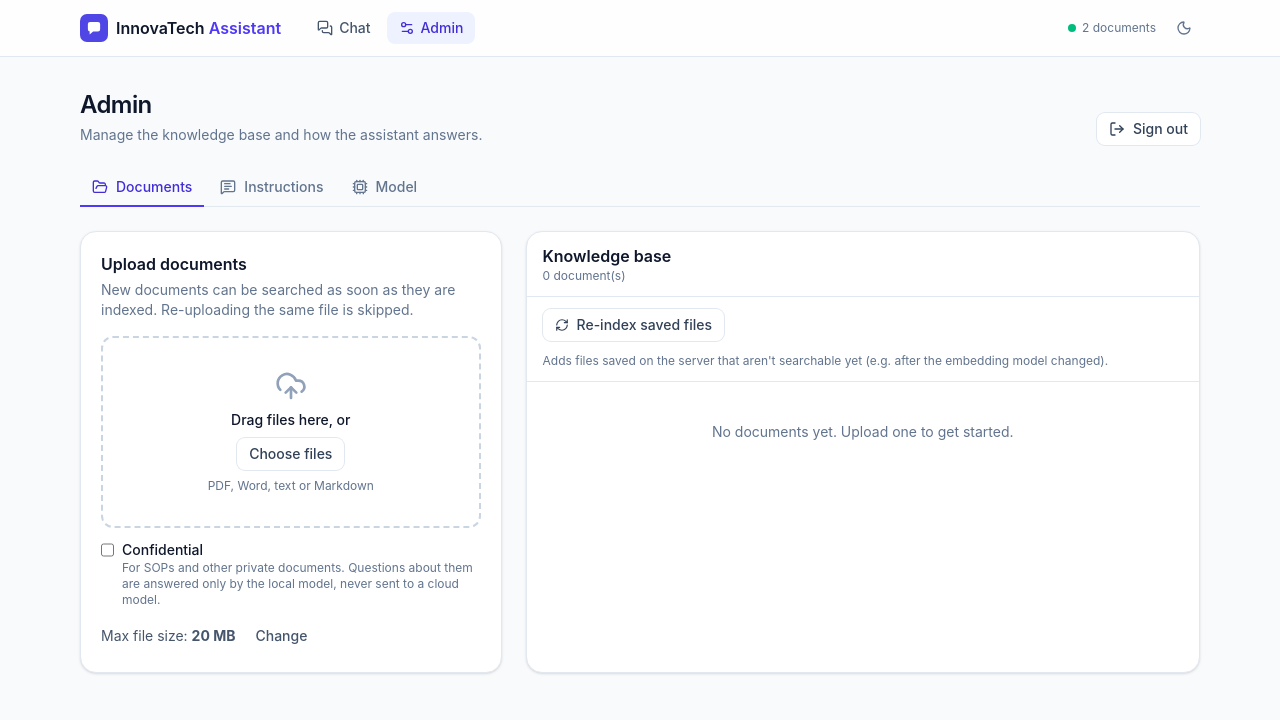
it: Upload size limit › shows why saving failed
Click the button "Change".
click(282, 636)  # box [244,620,320,652]
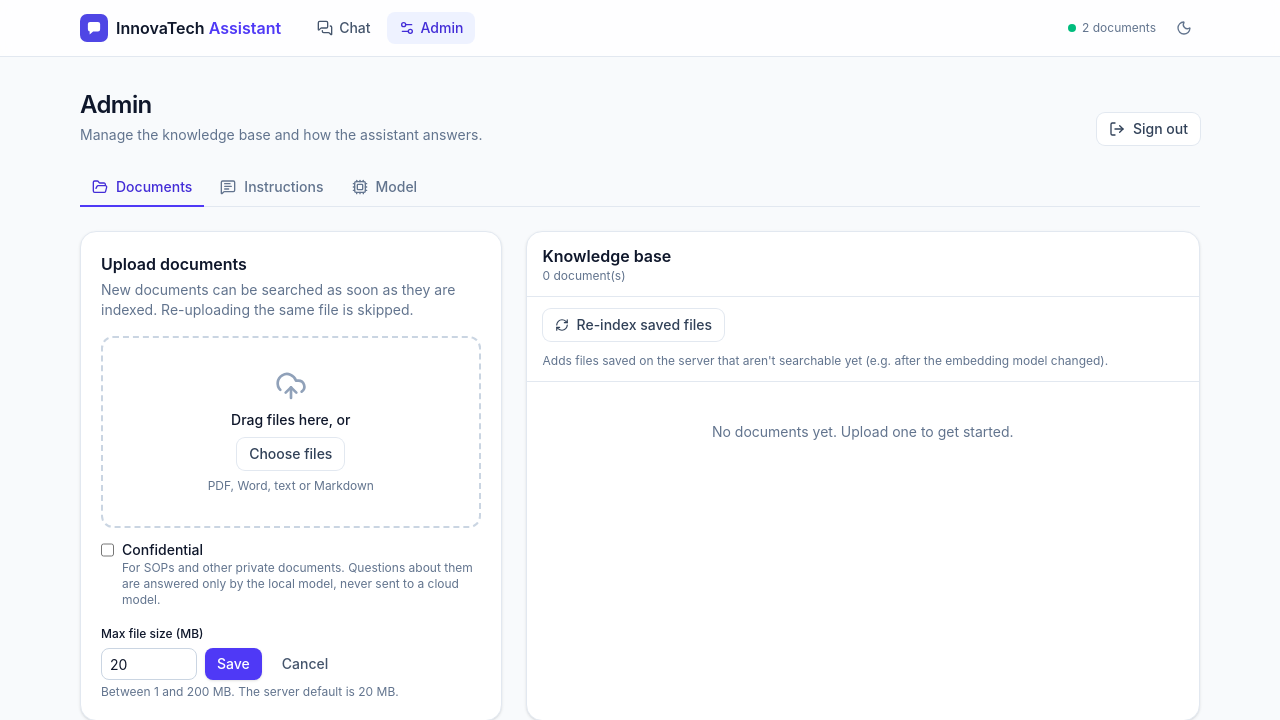
Click the button "Save".
click(233, 664)  # box [205,648,262,680]
(page scrolled)
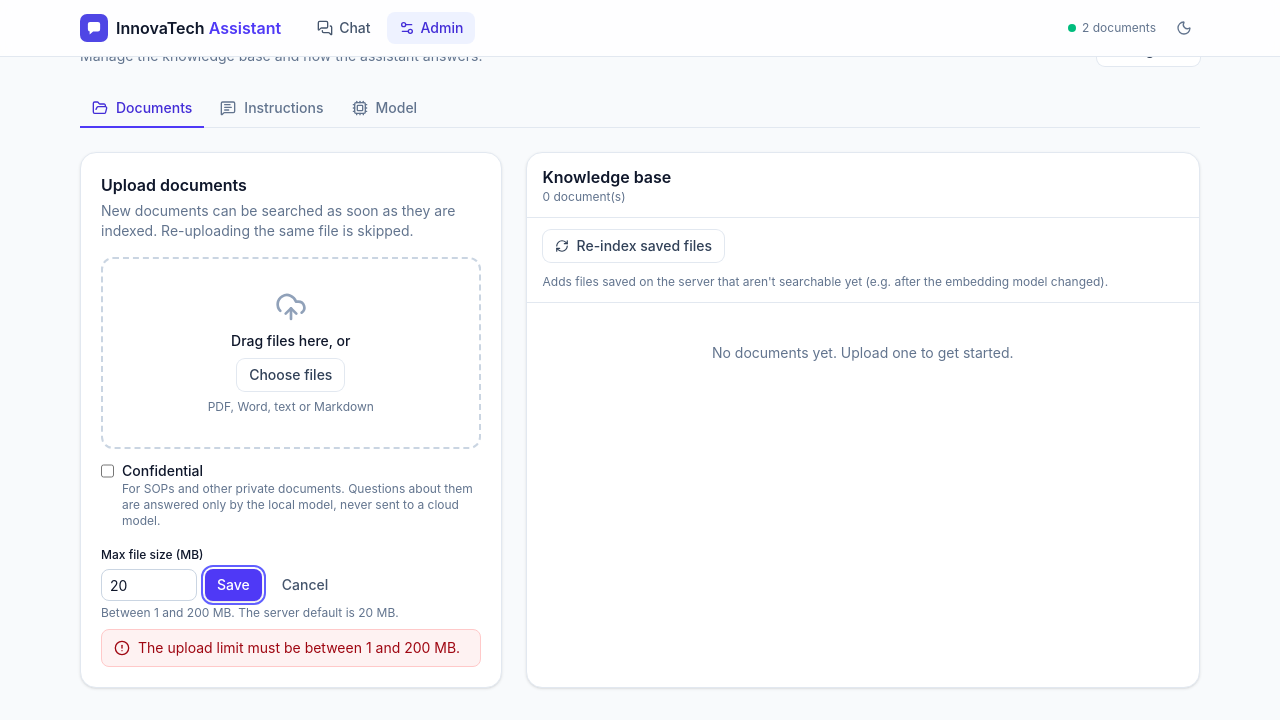
Check: the message shows "between 1 and 200 MB", box [138,639,460,656]
